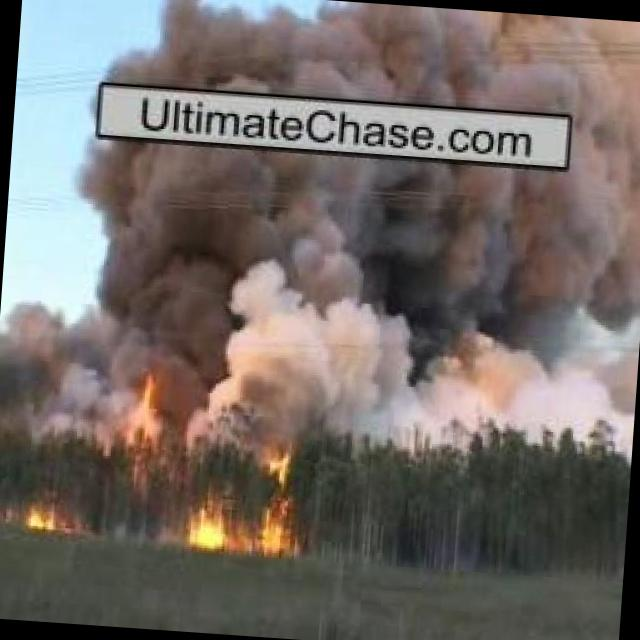Fire: (186, 433, 304, 558), (127, 354, 167, 461), (30, 486, 67, 532)
Smoke: (167, 144, 640, 448), (104, 0, 640, 118), (0, 144, 179, 370), (0, 359, 129, 454)
